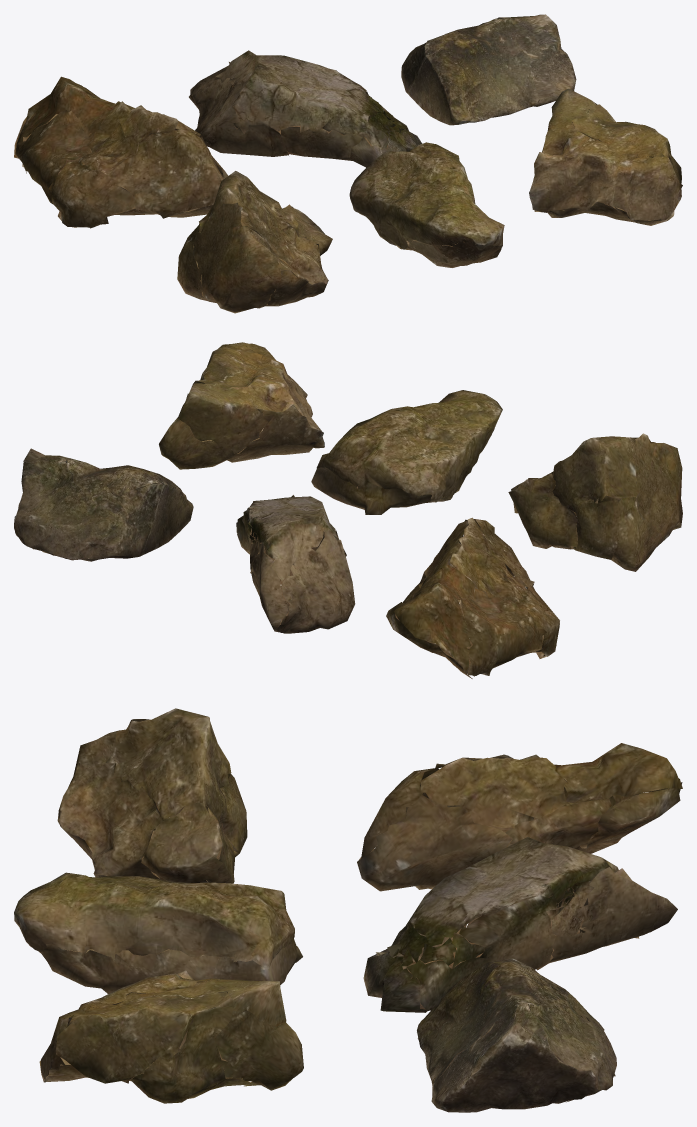
File: wall-stones.glb
3 views of the same model, one above another, from view 1: azimuth 30°, elevation 25°; view 2: azimuth 150°, elevation 25°; view 3: azimuth 270°, elevation 25° (orthographic). The views are drawn at different scales.
Visible parts, largest first — view 1: rock_moss_set_01_rock01, rock_moss_set_01_rock02, rock_moss_set_01_rock06, rock_moss_set_01_rock04, rock_moss_set_01_rock03, rock_moss_set_01_rock05; view 2: rock_moss_set_01_rock04, rock_moss_set_01_rock01, rock_moss_set_01_rock05, rock_moss_set_01_rock03, rock_moss_set_01_rock06, rock_moss_set_01_rock02; view 3: rock_moss_set_01_rock01, rock_moss_set_01_rock02, rock_moss_set_01_rock05, rock_moss_set_01_rock04, rock_moss_set_01_rock06, rock_moss_set_01_rock03.
Part boxes in pixels (x1=…): rock_moss_set_01_rock01: x1=14, y1=76, x2=228, y2=228; rock_moss_set_01_rock02: x1=189, y1=50, x2=422, y2=167; rock_moss_set_01_rock06: x1=529, y1=88, x2=682, y2=225; rock_moss_set_01_rock04: x1=177, y1=171, x2=332, y2=313; rock_moss_set_01_rock03: x1=401, y1=14, x2=576, y2=125; rock_moss_set_01_rock05: x1=349, y1=142, x2=504, y2=267; rock_moss_set_01_rock04: x1=508, y1=433, x2=682, y2=571; rock_moss_set_01_rock01: x1=386, y1=517, x2=559, y2=678; rock_moss_set_01_rock05: x1=311, y1=390, x2=502, y2=514; rock_moss_set_01_rock03: x1=14, y1=448, x2=193, y2=561; rock_moss_set_01_rock06: x1=159, y1=342, x2=324, y2=469; rock_moss_set_01_rock02: x1=236, y1=495, x2=355, y2=633; rock_moss_set_01_rock01: x1=357, y1=743, x2=682, y2=891; rock_moss_set_01_rock02: x1=363, y1=837, x2=677, y2=1012; rock_moss_set_01_rock05: x1=14, y1=872, x2=302, y2=993; rock_moss_set_01_rock04: x1=57, y1=708, x2=247, y2=883; rock_moss_set_01_rock06: x1=39, y1=970, x2=303, y2=1103; rock_moss_set_01_rock03: x1=417, y1=958, x2=616, y2=1112.
Bounding box in the file's own units: 8.02 × 1.76 × 6.96.
Materials: 1 (1 with a texture image).
